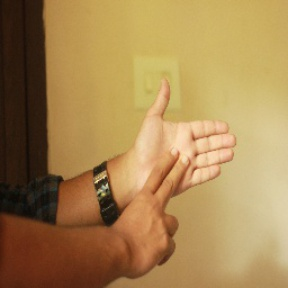N: (117, 75, 241, 269)
